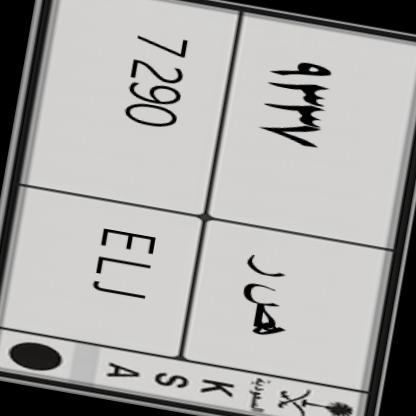english: (0, 0, 247, 361)
